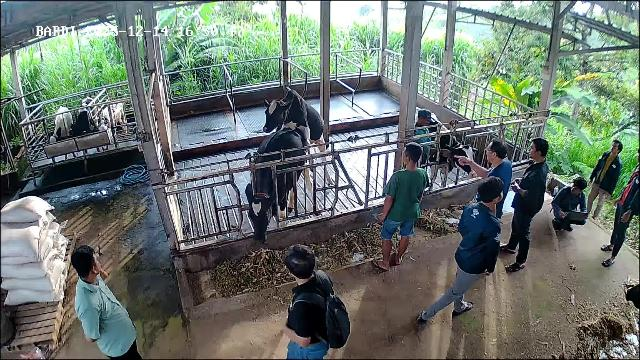mounting: (260, 90, 331, 185)
